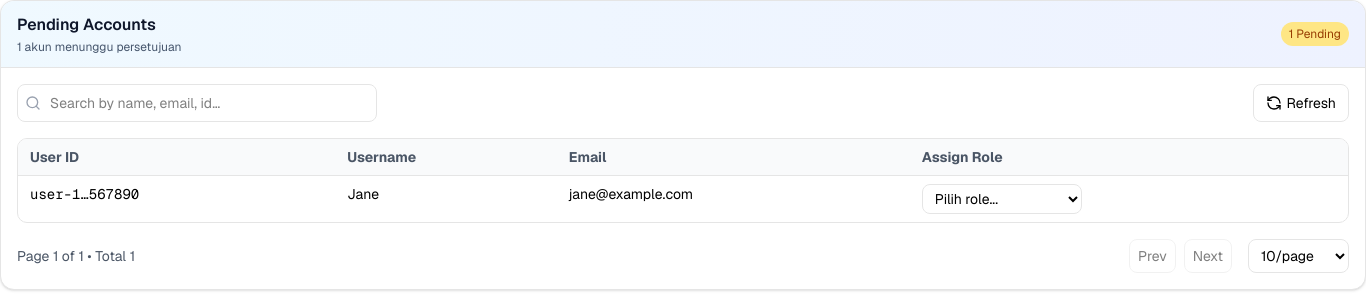
it: PendingAccounts › removes row after confirming new role
Check: the text "Jane" is shown, box [347,185,379,203]
Select "Teacher" in the dropdown in the row of "user-1": (1002, 199) [922,184,1082,214]
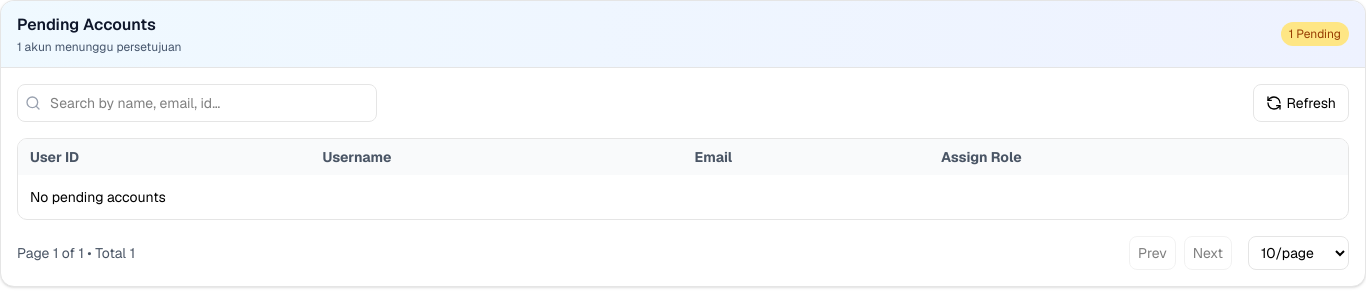
Check: the text "No pending accounts" is shown, box [18,175,1348,219]
